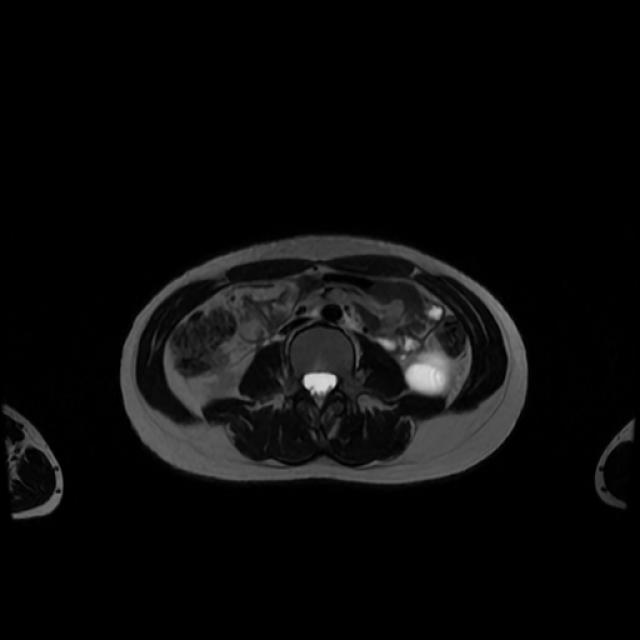sag: (208, 371, 239, 396)
sol: (404, 350, 455, 396)
